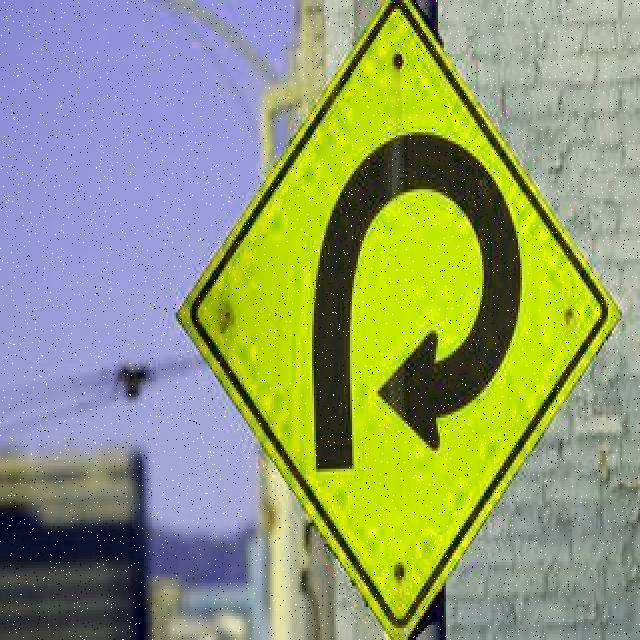Uturn: (175, 1, 615, 632)
